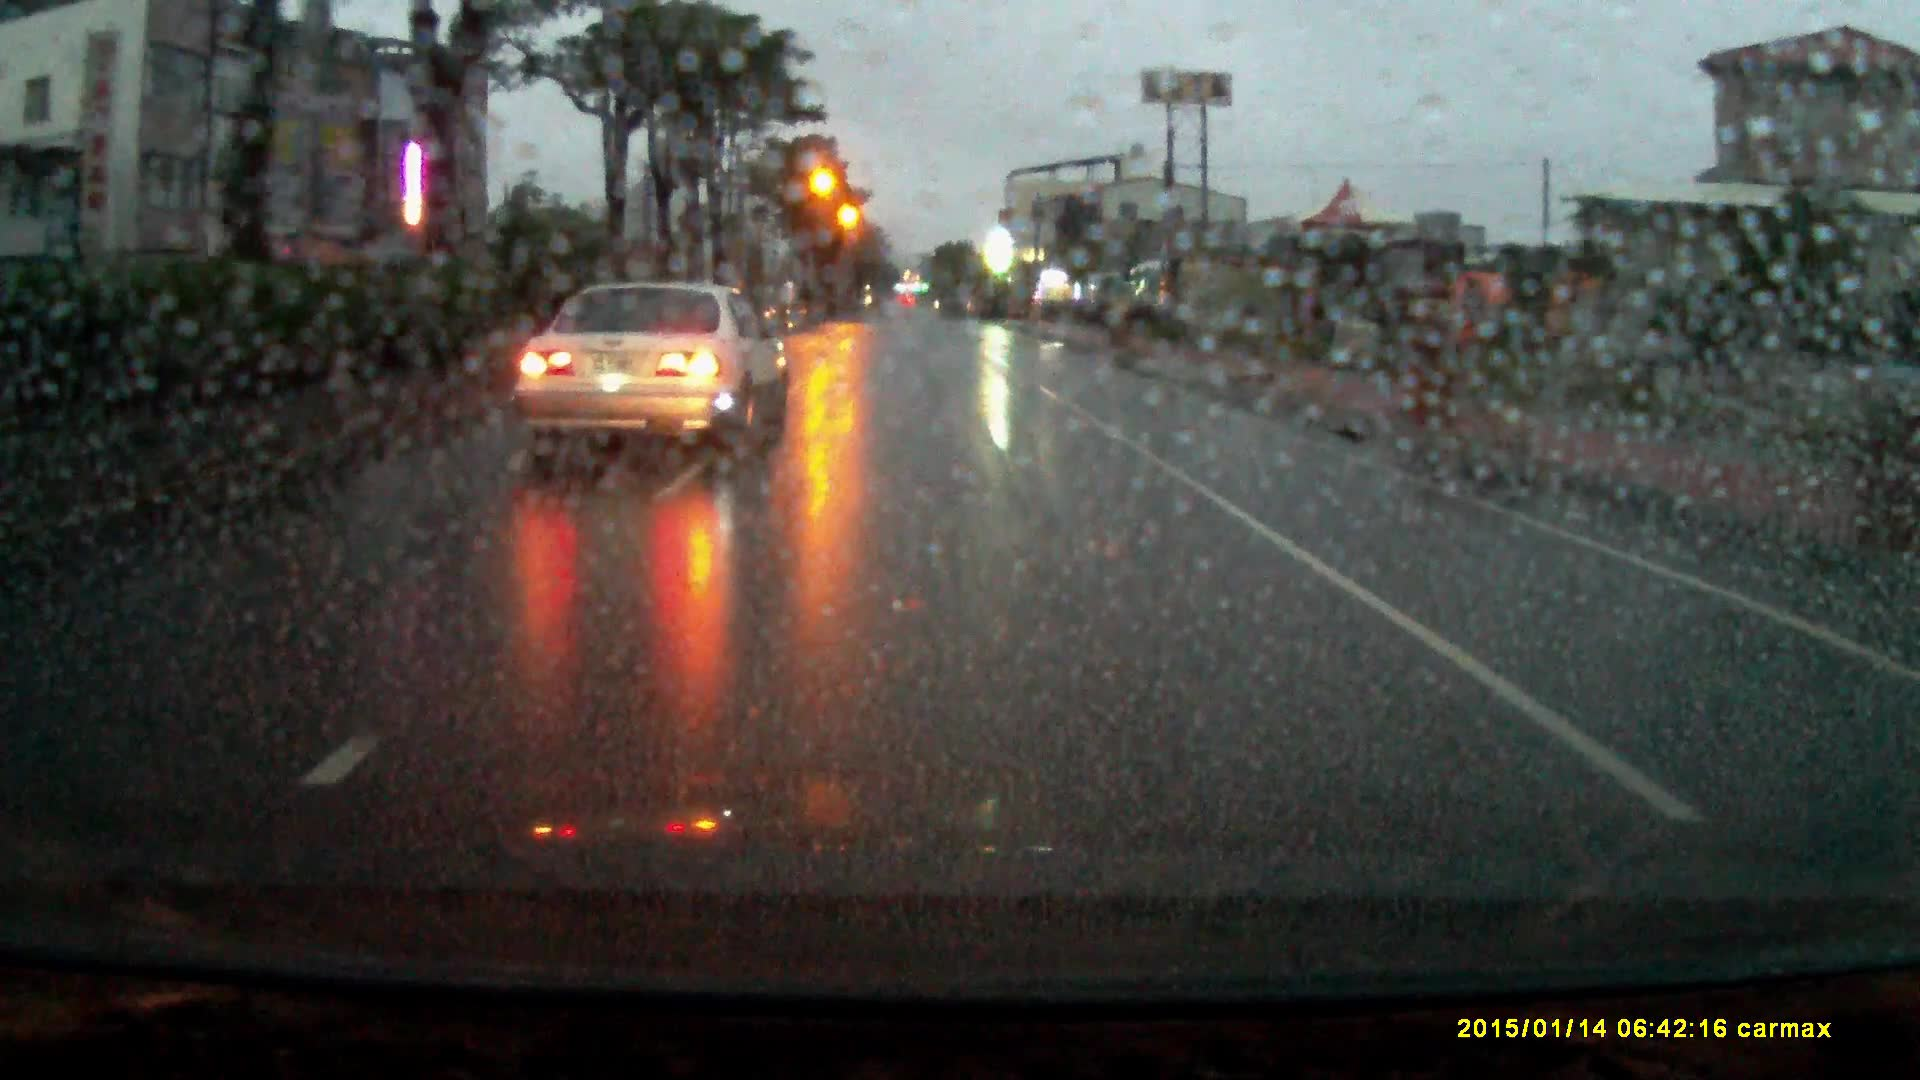pedestrian: (1436, 273, 1521, 451)
vehicle: (509, 287, 794, 473)
